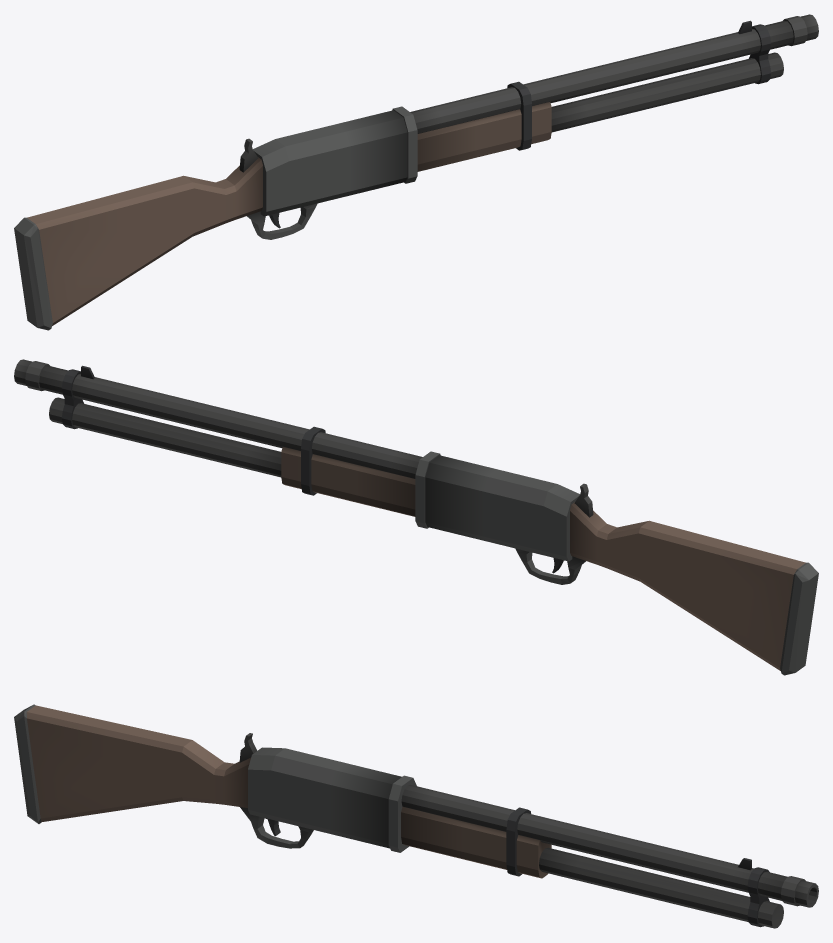
File: q-shotgun-2.glb
3 renders of one model, top to bottom at view 1: azimuth 30°, elevation 25°; view 2: azimuth 150°, elevation 25°; view 3: azimuth 330°, elevation 25°, orthographic.
Visible parts, largest first — view 1: body; view 2: body; view 3: body.
Part boxes in pixels (box(x1,y1,x2,y2)): body: box(14, 14, 818, 330); body: box(14, 359, 818, 675); body: box(14, 704, 818, 928).
Size of the model in its own units: 1 by 0.1641 by 0.0426.
